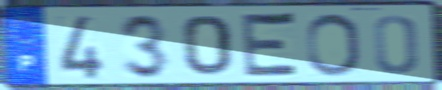0: (179, 14, 236, 78), (371, 13, 420, 76)
3: (118, 12, 171, 81)
4: (57, 13, 107, 81)
E: (240, 10, 302, 81)
O: (304, 11, 364, 78)
